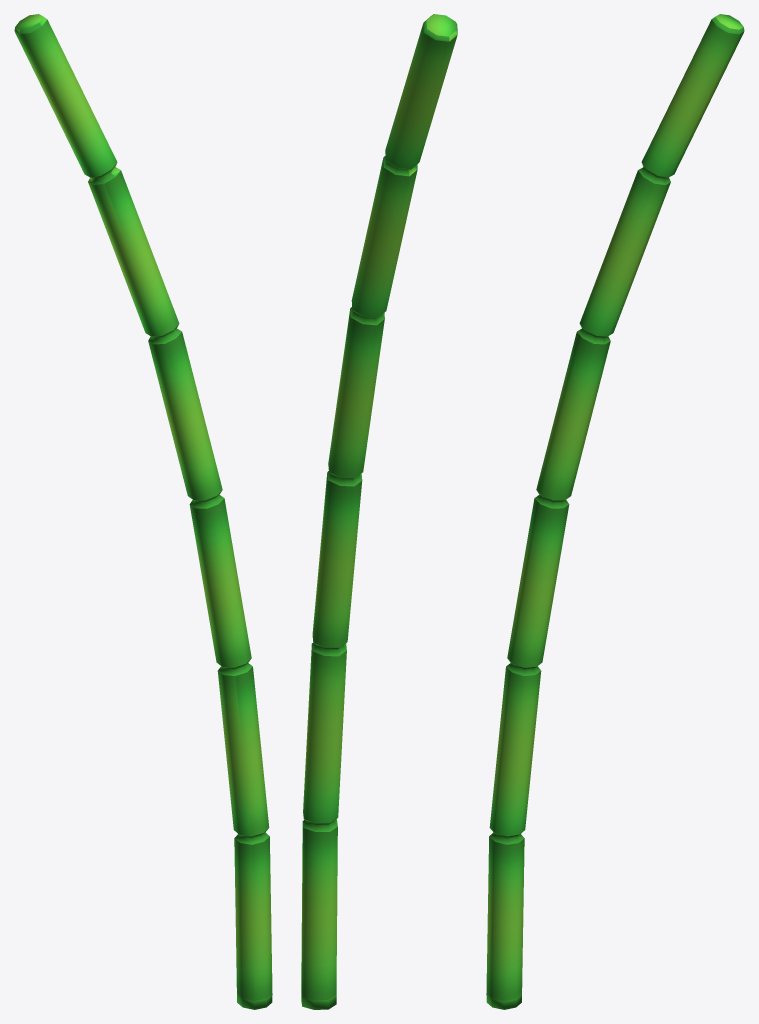
Rendered from bamboo_05.fbx.
The picture shows the model from 3 angles, left to right: view 1: azimuth 90°, elevation 25°; view 2: azimuth 210°, elevation 25°; view 3: azimuth 270°, elevation 25°; orthographic projection. The views are drawn at different scales.
Parts seen in each view (by area): view 1: Cube.036; view 2: Cube.036; view 3: Cube.036.
Boxes of the visible parts, bbox=[...] form: Cube.036: bbox=[14, 14, 272, 1009]; Cube.036: bbox=[301, 14, 457, 1009]; Cube.036: bbox=[486, 14, 744, 1009].
Size of the model in its own units: 23.7 by 725 by 172.
